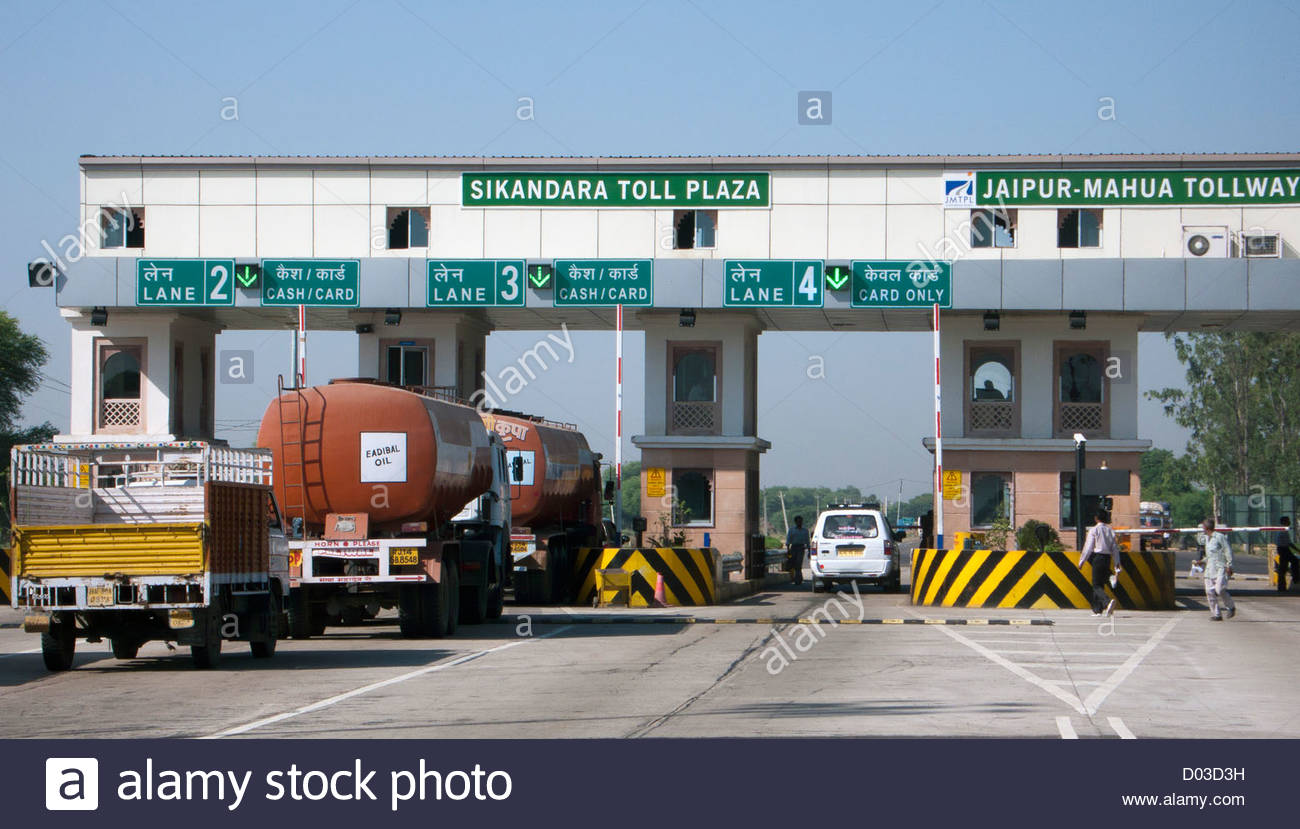toll plaza: (527, 121, 1300, 608)
